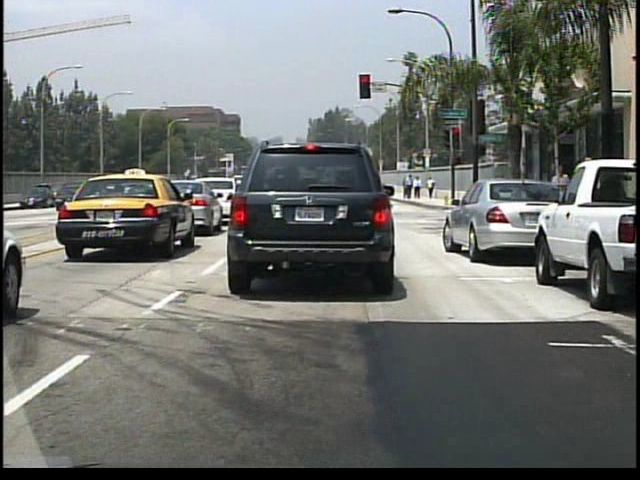person: (549, 165, 571, 224), (426, 174, 437, 201), (404, 174, 413, 200), (413, 175, 422, 201)
